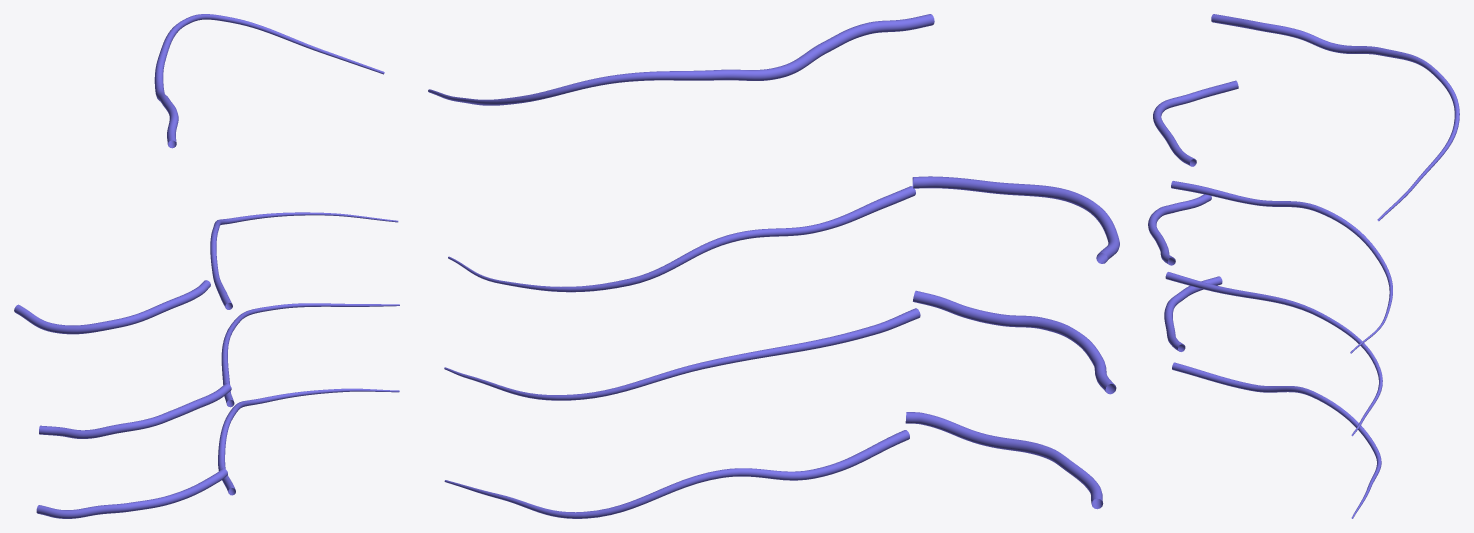
Rendered from Lumbar_veins.l_BezierCurve.395.glb.
3 renders of one model, left to right at view 1: azimuth 30°, elevation 25°; view 2: azimuth 150°, elevation 25°; view 3: azimuth 270°, elevation 25°, orthographic. The views are drawn at different scales.
Parts seen in each view (by area): view 1: Lumbar_veins.l_BezierCurve.395; view 2: Lumbar_veins.l_BezierCurve.395; view 3: Lumbar_veins.l_BezierCurve.395.
Part boxes in pixels (x1=…): Lumbar_veins.l_BezierCurve.395: x1=14, y1=14, x2=399, y2=518; Lumbar_veins.l_BezierCurve.395: x1=428, y1=14, x2=1119, y2=518; Lumbar_veins.l_BezierCurve.395: x1=1148, y1=14, x2=1459, y2=518.
Size of the model in its own units: 0.1155 by 0.0953 by 0.0725.
